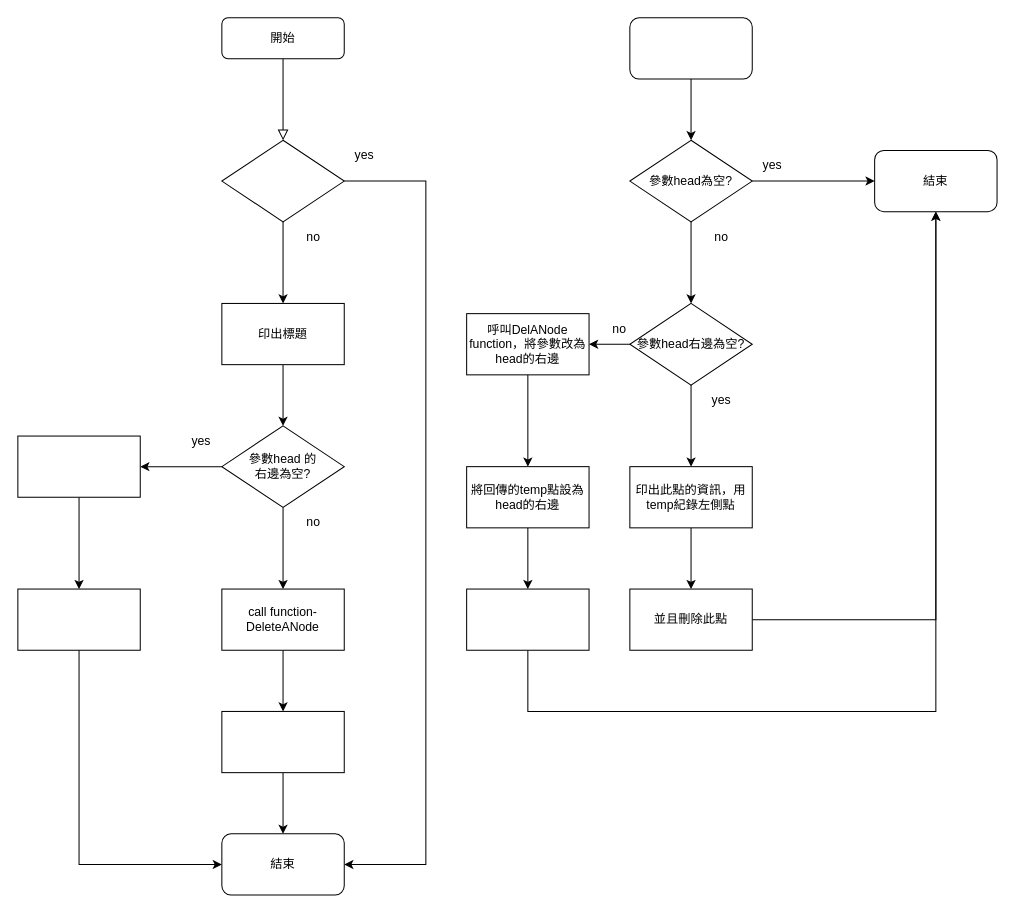
The diagram is 1015 pixels wide and 913 high, and some of its shapes have lost their labels. The centre of each missing label's shape, as x and y in pixels:
"DeleteANode" goes at (x=690, y=48).
"印出此點的資訊" goes at (x=78, y=466).
"回傳head" goes at (x=282, y=741).
"將head設為此點的left，並刪除此點" goes at (x=78, y=619).
"提供的參數head 是NULL?" goes at (x=282, y=180).
"用temp記錄此點" goes at (x=527, y=619).
